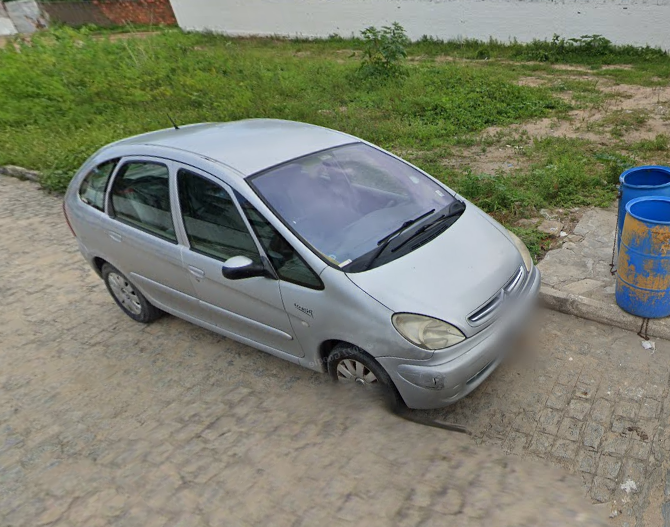car: (61, 112, 544, 418)
